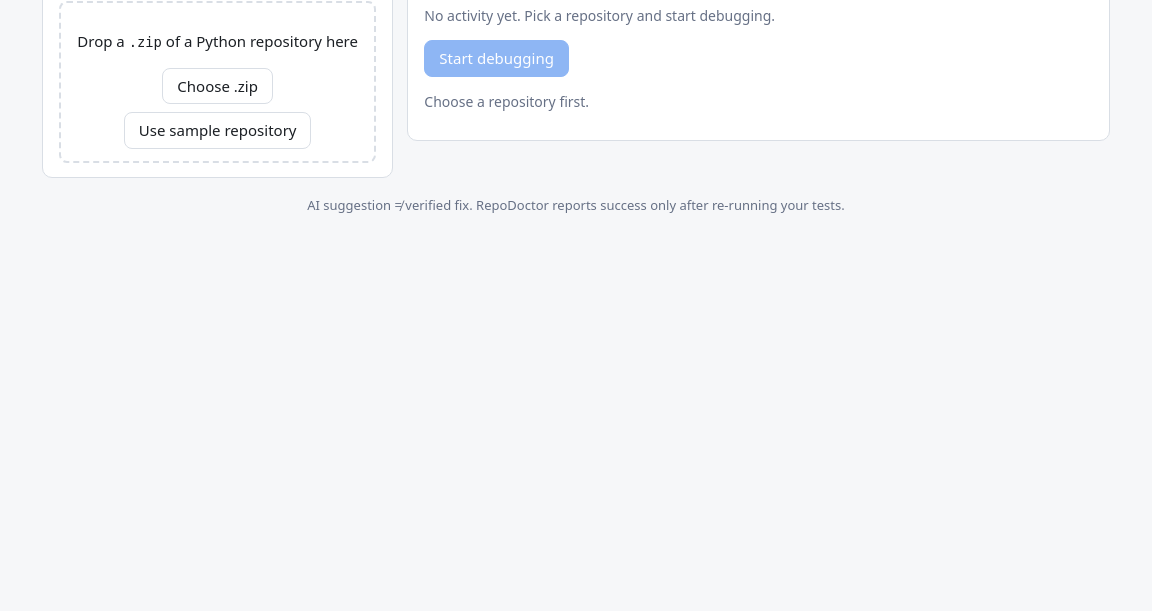
Scenario: never claiming more than was verified › shows a failed verification honestly, with what did not work
This screenshot has width=1152, height=611.
Click the button "Use sample repository" at coordinates (218, 130), box x1=124 y1=112 x2=311 y2=149
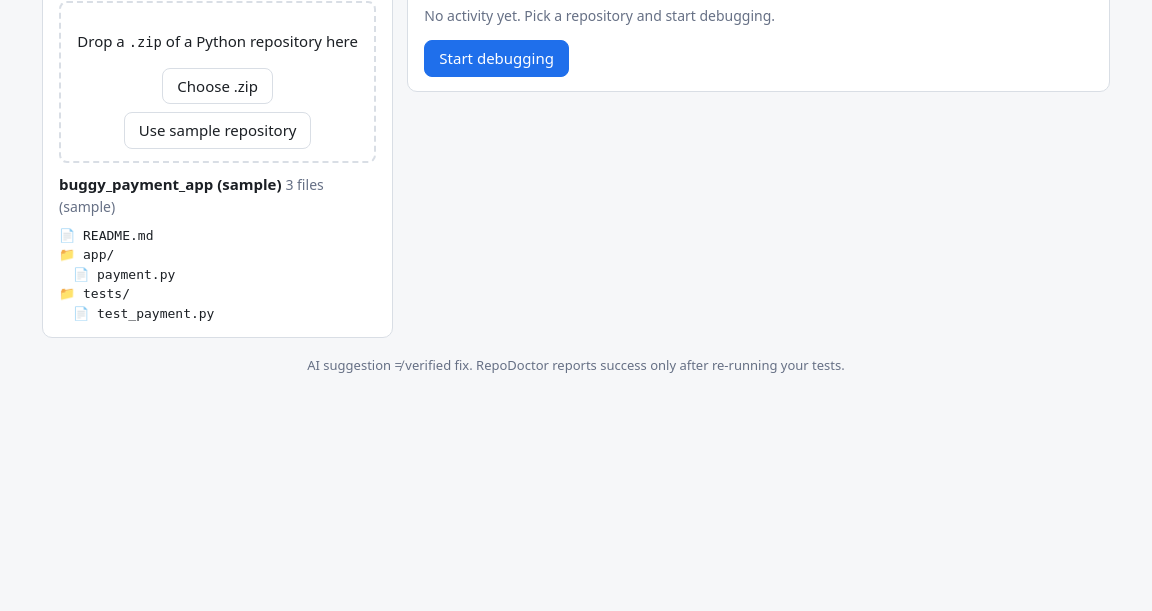
Now the list named "Repository files" is shown, box x1=59 y1=228 x2=214 y2=321
Click the button "Start debugging" at coordinates (497, 58), box x1=424 y1=40 x2=569 y2=76
(page scrolled)
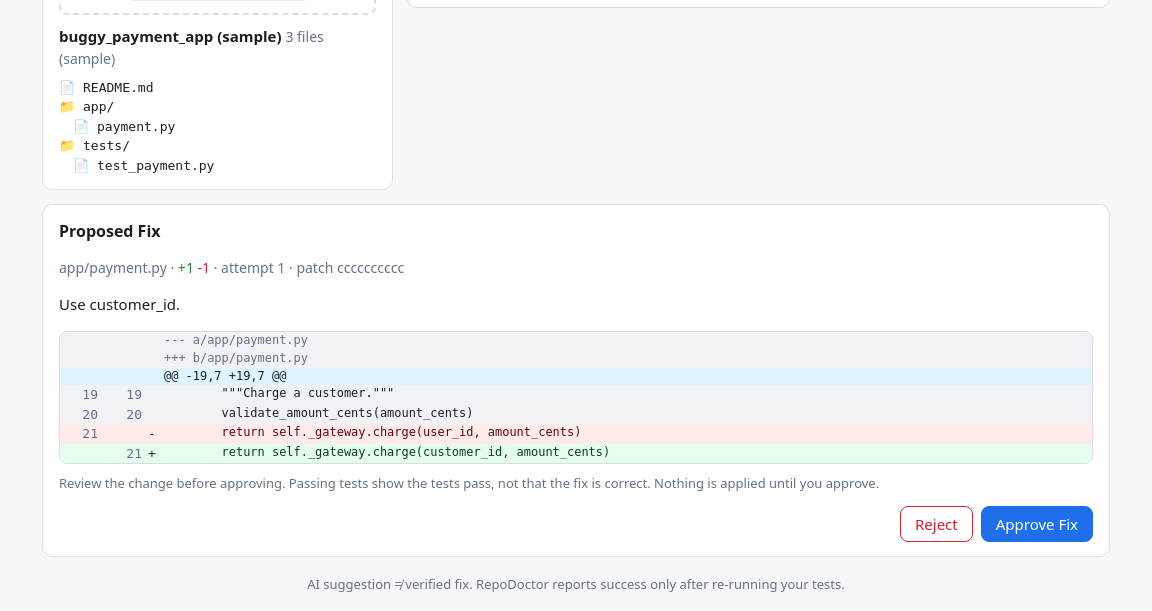
Now the button "Approve Fix" is shown
Click the button "Approve Fix" at coordinates (1037, 524), box x1=981 y1=506 x2=1093 y2=542
(page scrolled)
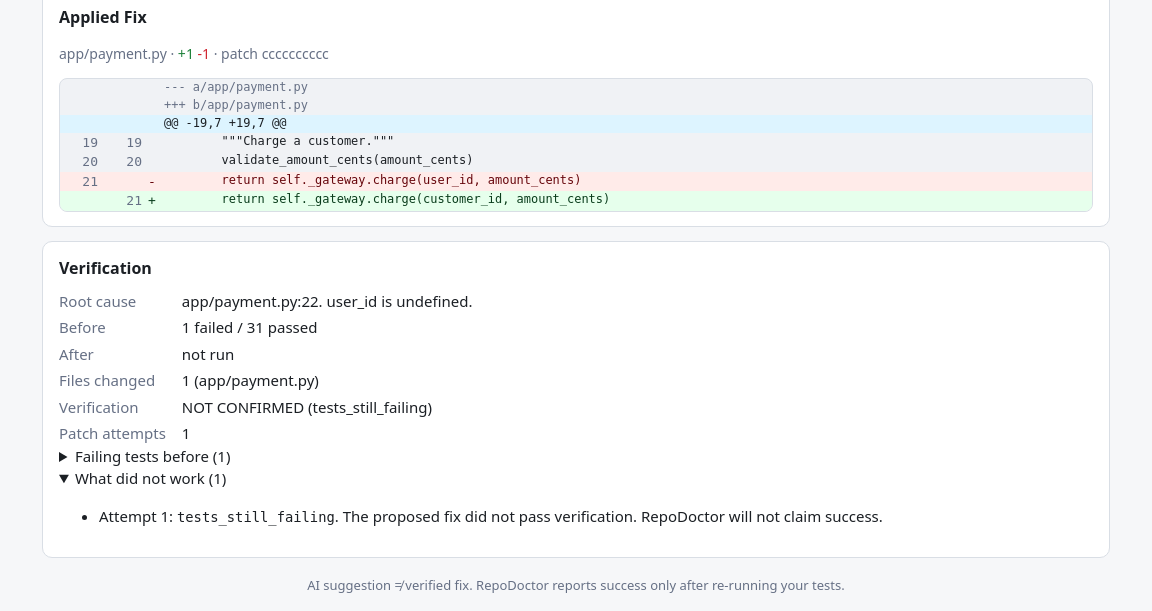
Expected: the element with test id "after" does not show "✓"
Now the text with test id "verdict" reads "NOT CONFIRMED (tests_still_failing)", box x1=182 y1=397 x2=432 y2=417
Now the text "tests_still_failing" is shown, box x1=177 y1=509 x2=335 y2=525
